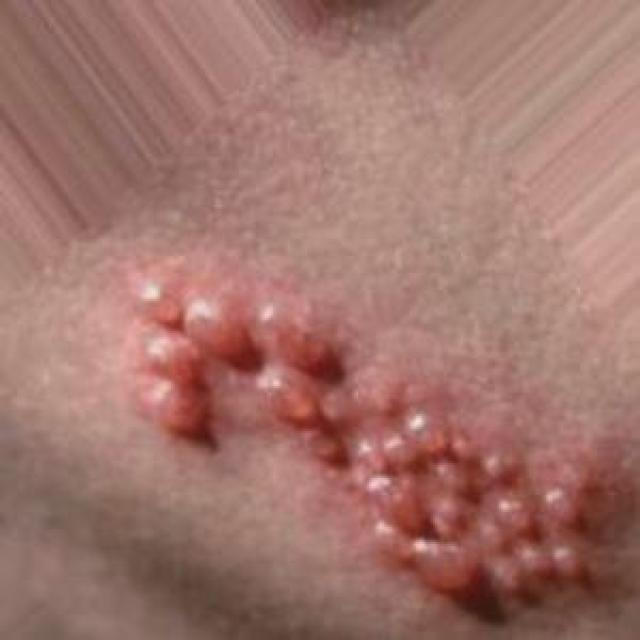Shingles: (118, 277, 587, 595)
